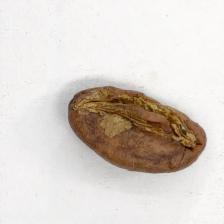NG: (80, 85, 196, 161)
